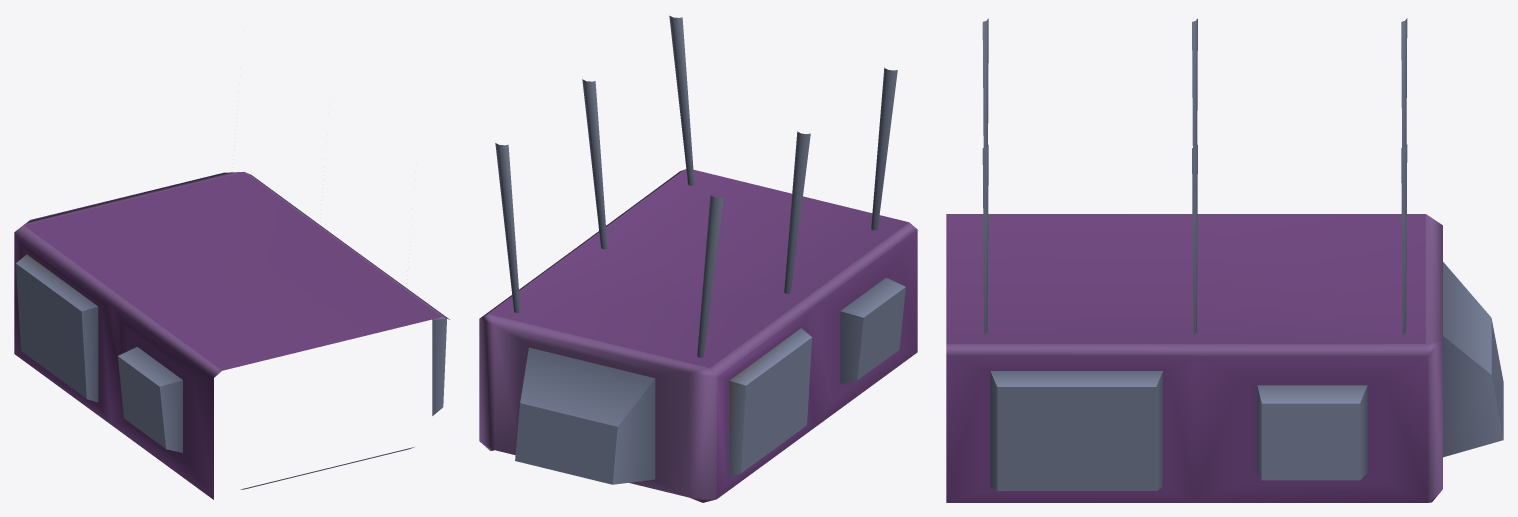
File: prop-machine_base_ceiling.glb
The picture shows the model from 3 angles, left to right: view 1: azimuth 30°, elevation 25°; view 2: azimuth 150°, elevation 25°; view 3: azimuth 270°, elevation 25°; orthographic projection. The views are drawn at different scales.
Visible parts, largest first — view 1: prop-machine_base_ceiling; view 2: prop-machine_base_ceiling; view 3: prop-machine_base_ceiling.
Boxes of the visible parts, x1,y1,x2,y2 form: prop-machine_base_ceiling: (14, 172, 449, 499); prop-machine_base_ceiling: (479, 15, 917, 502); prop-machine_base_ceiling: (946, 18, 1503, 502).
Size of the model in its own units: 12.42 by 12.79 by 18.
